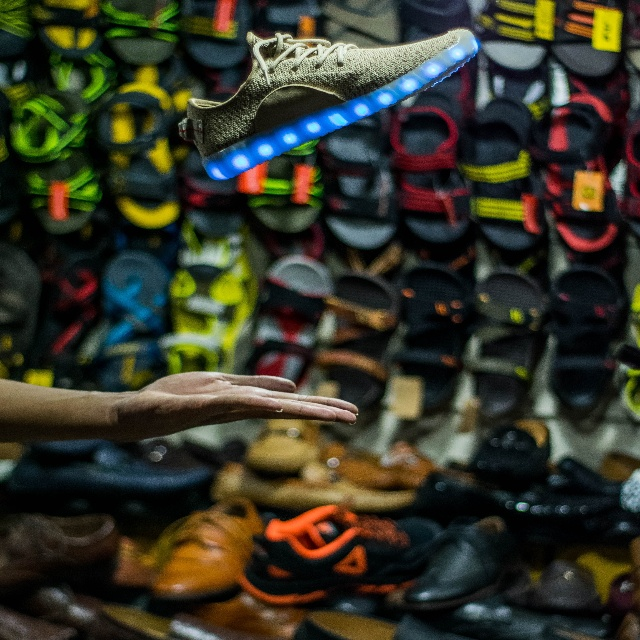Sin_guantes: (119, 368, 361, 439)
